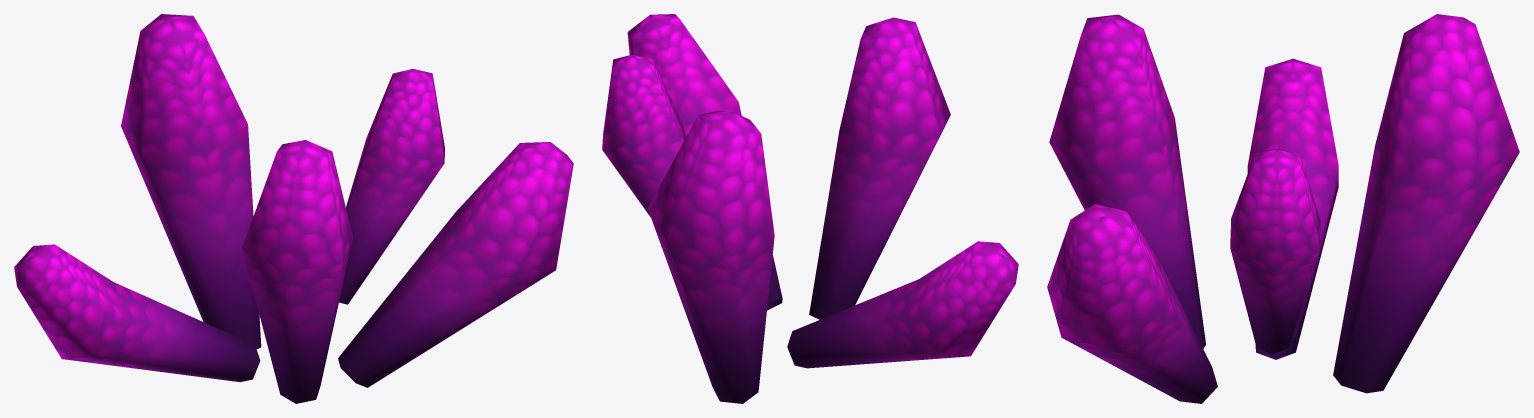
The model's file is Coral_10a.FBX.
3 renders of one model, left to right at view 1: azimuth 30°, elevation 25°; view 2: azimuth 150°, elevation 25°; view 3: azimuth 270°, elevation 25°, orthographic. The views are drawn at different scales.
Parts seen in each view (by area): view 1: Coral_10a; view 2: Coral_10a; view 3: Coral_10a.
Boxes of the visible parts, bbox=[...] form: Coral_10a: bbox=[14, 14, 573, 403]; Coral_10a: bbox=[602, 14, 1018, 403]; Coral_10a: bbox=[1047, 14, 1519, 403].
Size of the model in its own units: 9.75 by 6.28 by 7.54.
